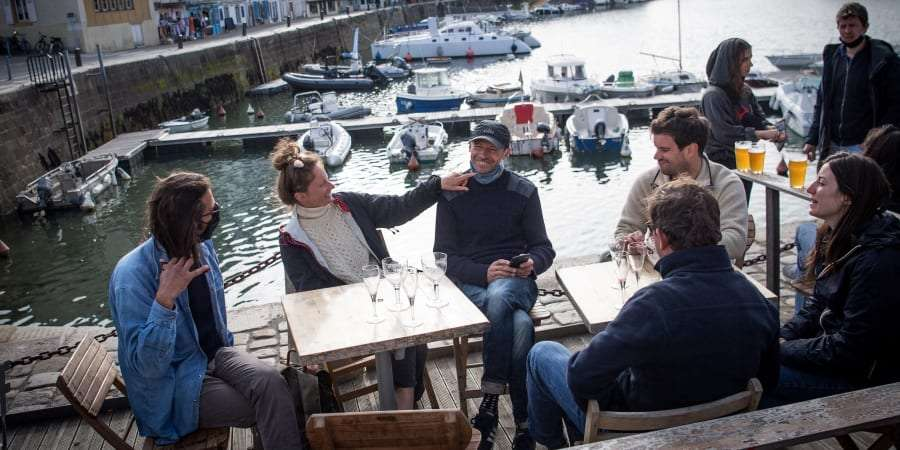with_incorrect_mask: (468, 128, 509, 188), (838, 3, 872, 56)
with_mask: (168, 183, 232, 251)
without_mask: (798, 160, 847, 222), (299, 162, 345, 206), (643, 123, 681, 173), (727, 48, 756, 82)
